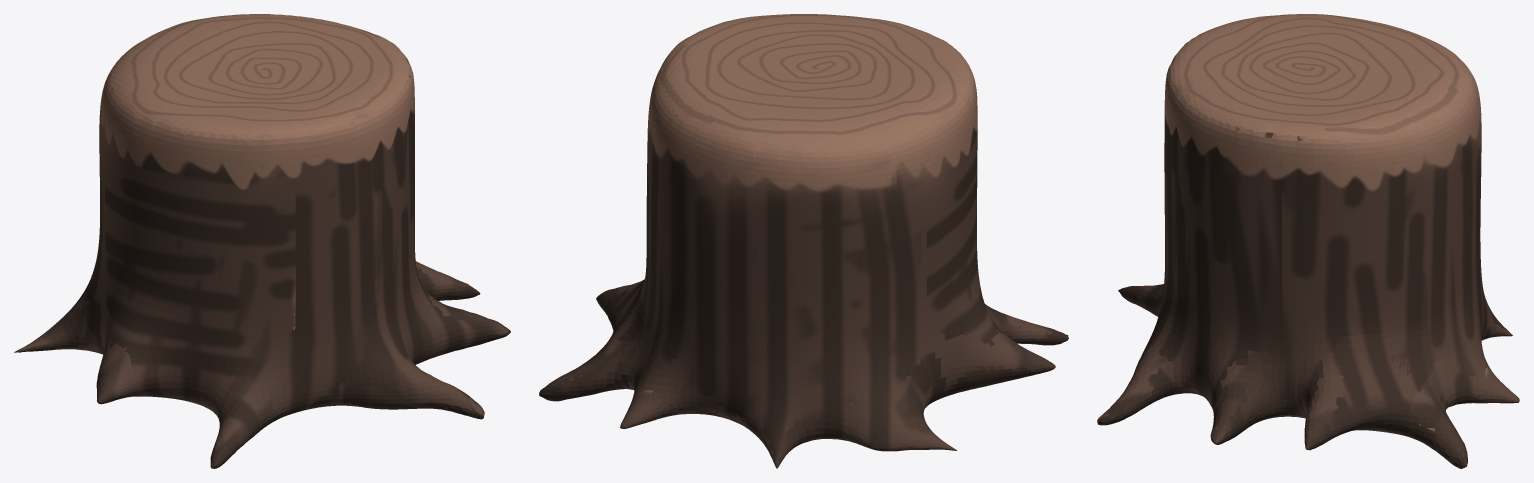
File: Stump.fbx
3 renders of one model, left to right at view 1: azimuth 30°, elevation 25°; view 2: azimuth 150°, elevation 25°; view 3: azimuth 270°, elevation 25°, orthographic. The views are drawn at different scales.
Visible parts, largest first — view 1: Cylinder; view 2: Cylinder; view 3: Cylinder.
Part boxes in pixels (x1,y1,x2,y2): Cylinder: (14,14,510,468); Cylinder: (539,14,1068,468); Cylinder: (1097,14,1519,468).
Size of the model in its own units: 296 by 212 by 262.
